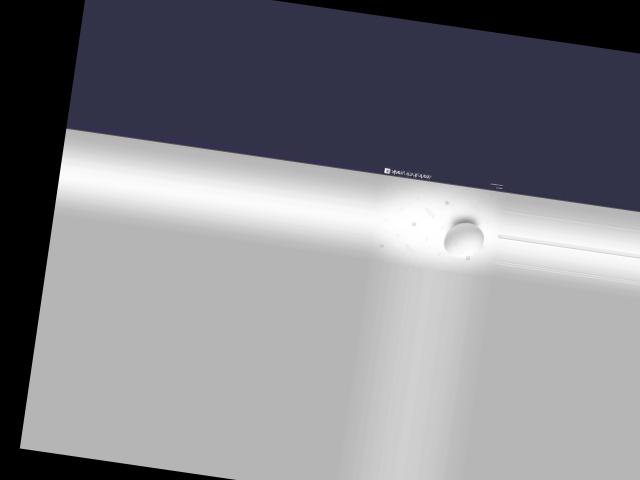egg: (443, 219, 487, 260)
